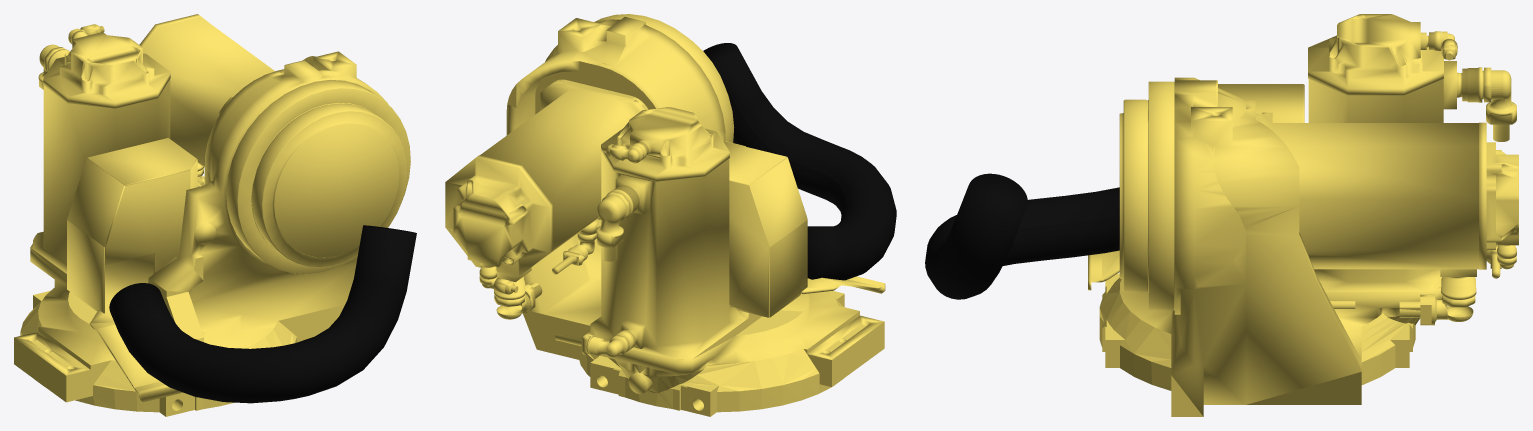
The picture shows the model from 3 angles, left to right: view 1: azimuth 30°, elevation 25°; view 2: azimuth 150°, elevation 25°; view 3: azimuth 270°, elevation 25°; orthographic projection. The views are drawn at different scales.
Parts seen in each view (by area): view 1: Node_0x7fd4b585cda0.001, Node_0x7fd4b585cda0; view 2: Node_0x7fd4b585cda0.001, Node_0x7fd4b585cda0; view 3: Node_0x7fd4b585cda0.001, Node_0x7fd4b585cda0.
Boxes of the visible parts, x1,y1,x2,y2 form: Node_0x7fd4b585cda0.001: (14, 14, 410, 416); Node_0x7fd4b585cda0: (109, 225, 416, 403); Node_0x7fd4b585cda0.001: (445, 14, 885, 416); Node_0x7fd4b585cda0: (703, 43, 896, 280); Node_0x7fd4b585cda0.001: (1088, 14, 1518, 416); Node_0x7fd4b585cda0: (925, 173, 1119, 299).
Bounding box in the file's own units: 0.428 × 0.5716 × 0.3344.
